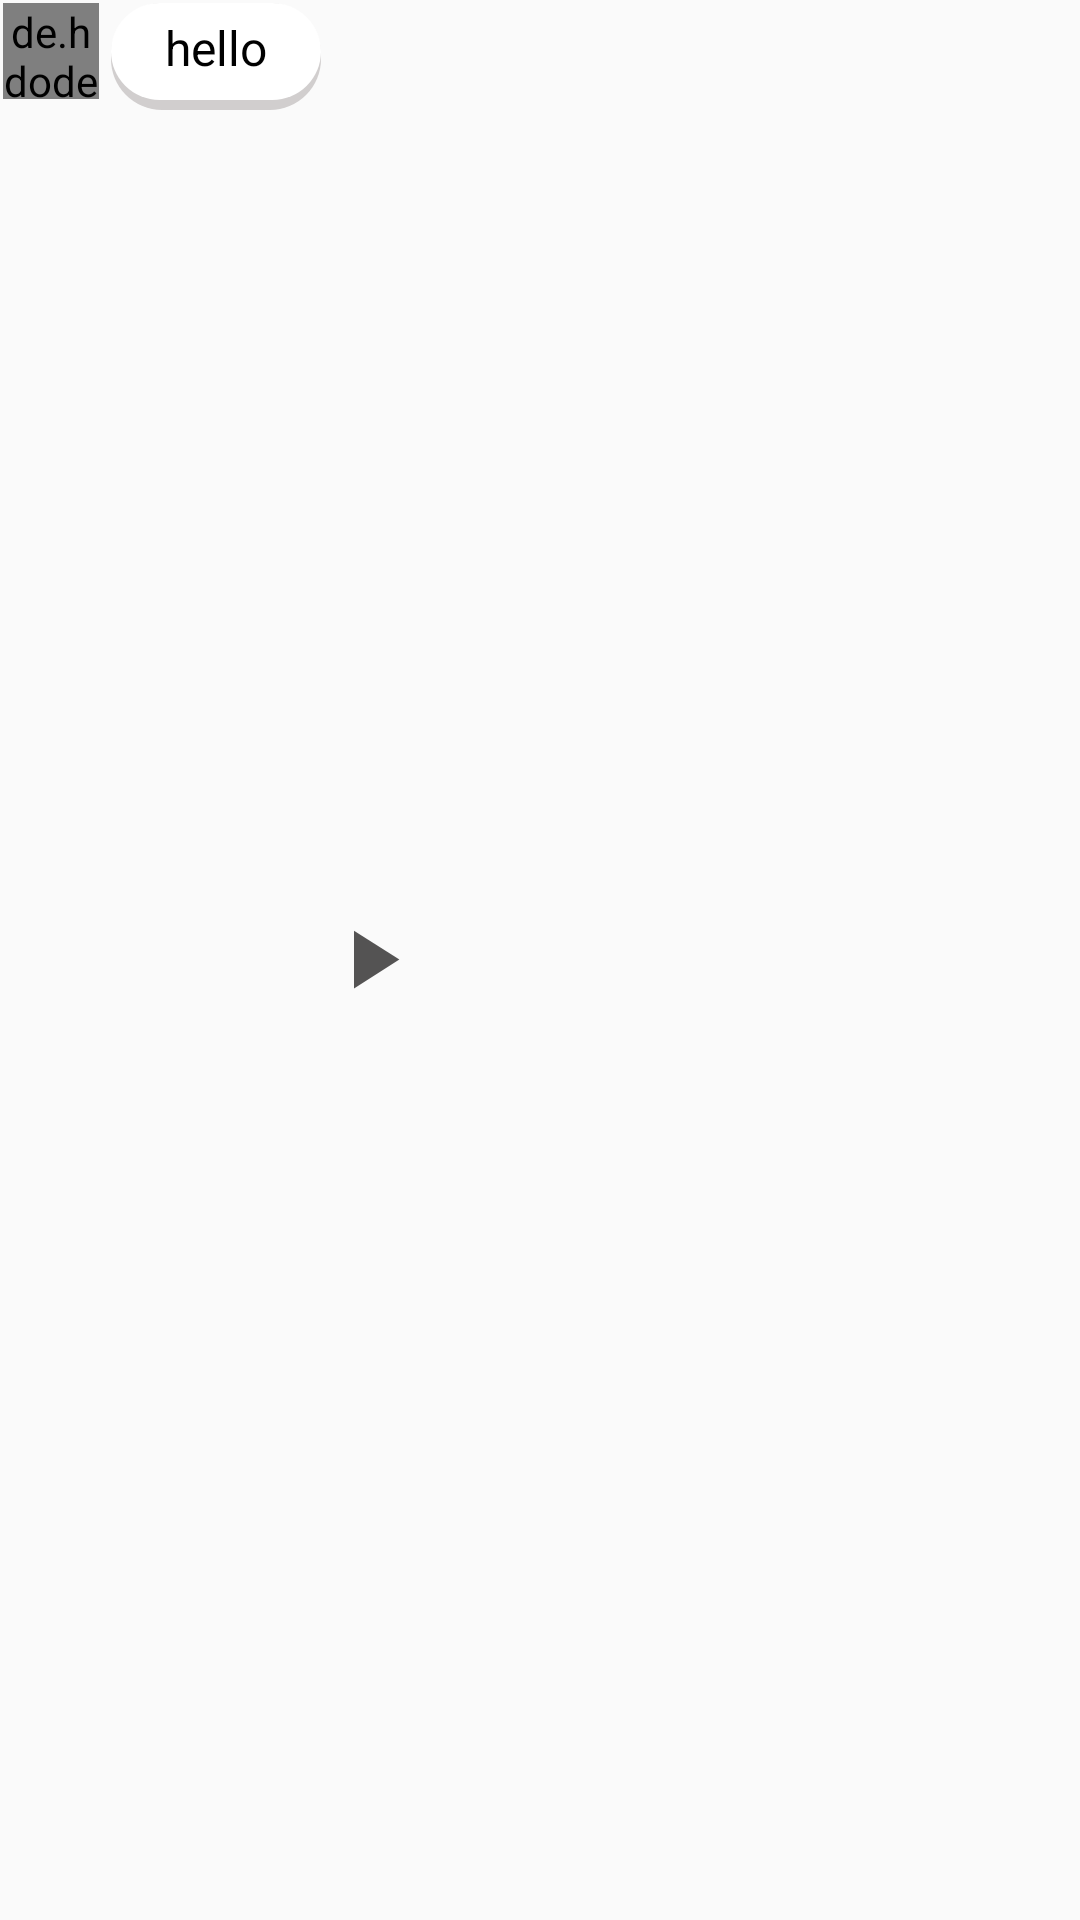

Screen size 1080*1920. Icon name, then its center in pixels as (x=x, y=y):
play ll: (x=376, y=960)
